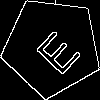E: (27, 21, 83, 78)
